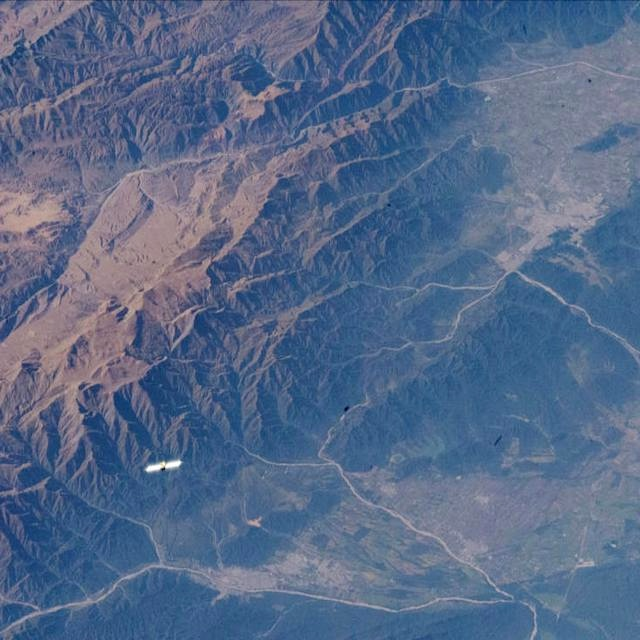satellite: (141, 455, 181, 480)
